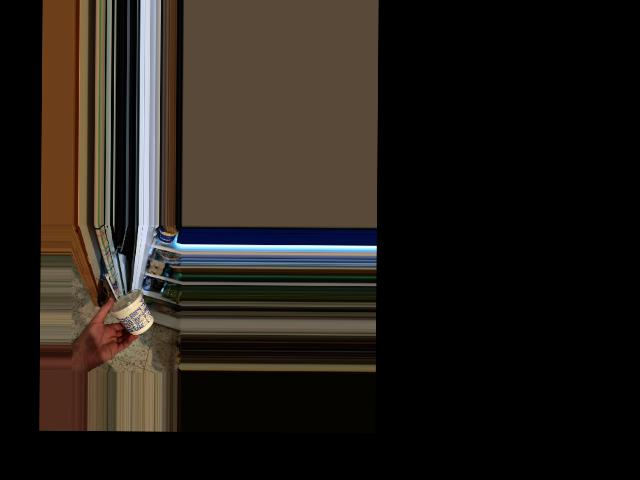cotage: (105, 291, 149, 336)
